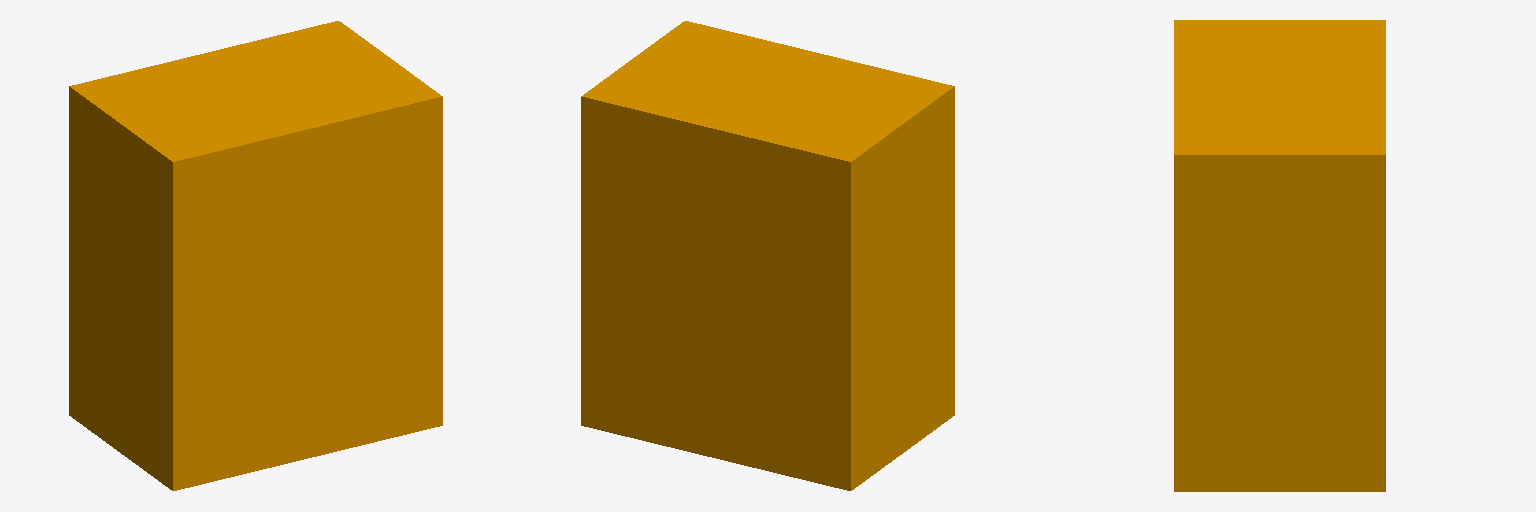
robot.urdf — object:
<?xml version="0.0"?>
	<robot name="object">
		<link name="object">
			<visual>
				<origin xyz="0 0 0"/>
				<geometry>
					<box size="0.6 0.4 0.7"/>
				</geometry>
			</visual>
			<inertial>
				<mass value="16.800"/>
			</inertial>
			<collision>
				<origin xyz="0 0 0"/>
				<geometry>
					<box size="0.6 0.4 0.7"/>
				</geometry>
			</collision>
		</link>

	</robot>

--- Facts derived from the render (not from the file) ---
3 views of the same robot in one strip: view 1: azimuth 30°, elevation 25°; view 2: azimuth 150°, elevation 25°; view 3: azimuth 270°, elevation 25° (orthographic).
Robot: object — 1 links, 0 joints (none); root link object; default pose: all joints at 0.
Visible links, largest first — view 1: object; view 2: object; view 3: object.
Link boxes in pixels (x1,y1,x2,y2): object: (69,21,442,490); object: (581,21,954,490); object: (1174,20,1385,491).
Bounding box of the posed robot: 0.6 × 0.4 × 0.7 m (x, y, z).
Geometry: primitives only (box / cylinder / sphere), no mesh files.